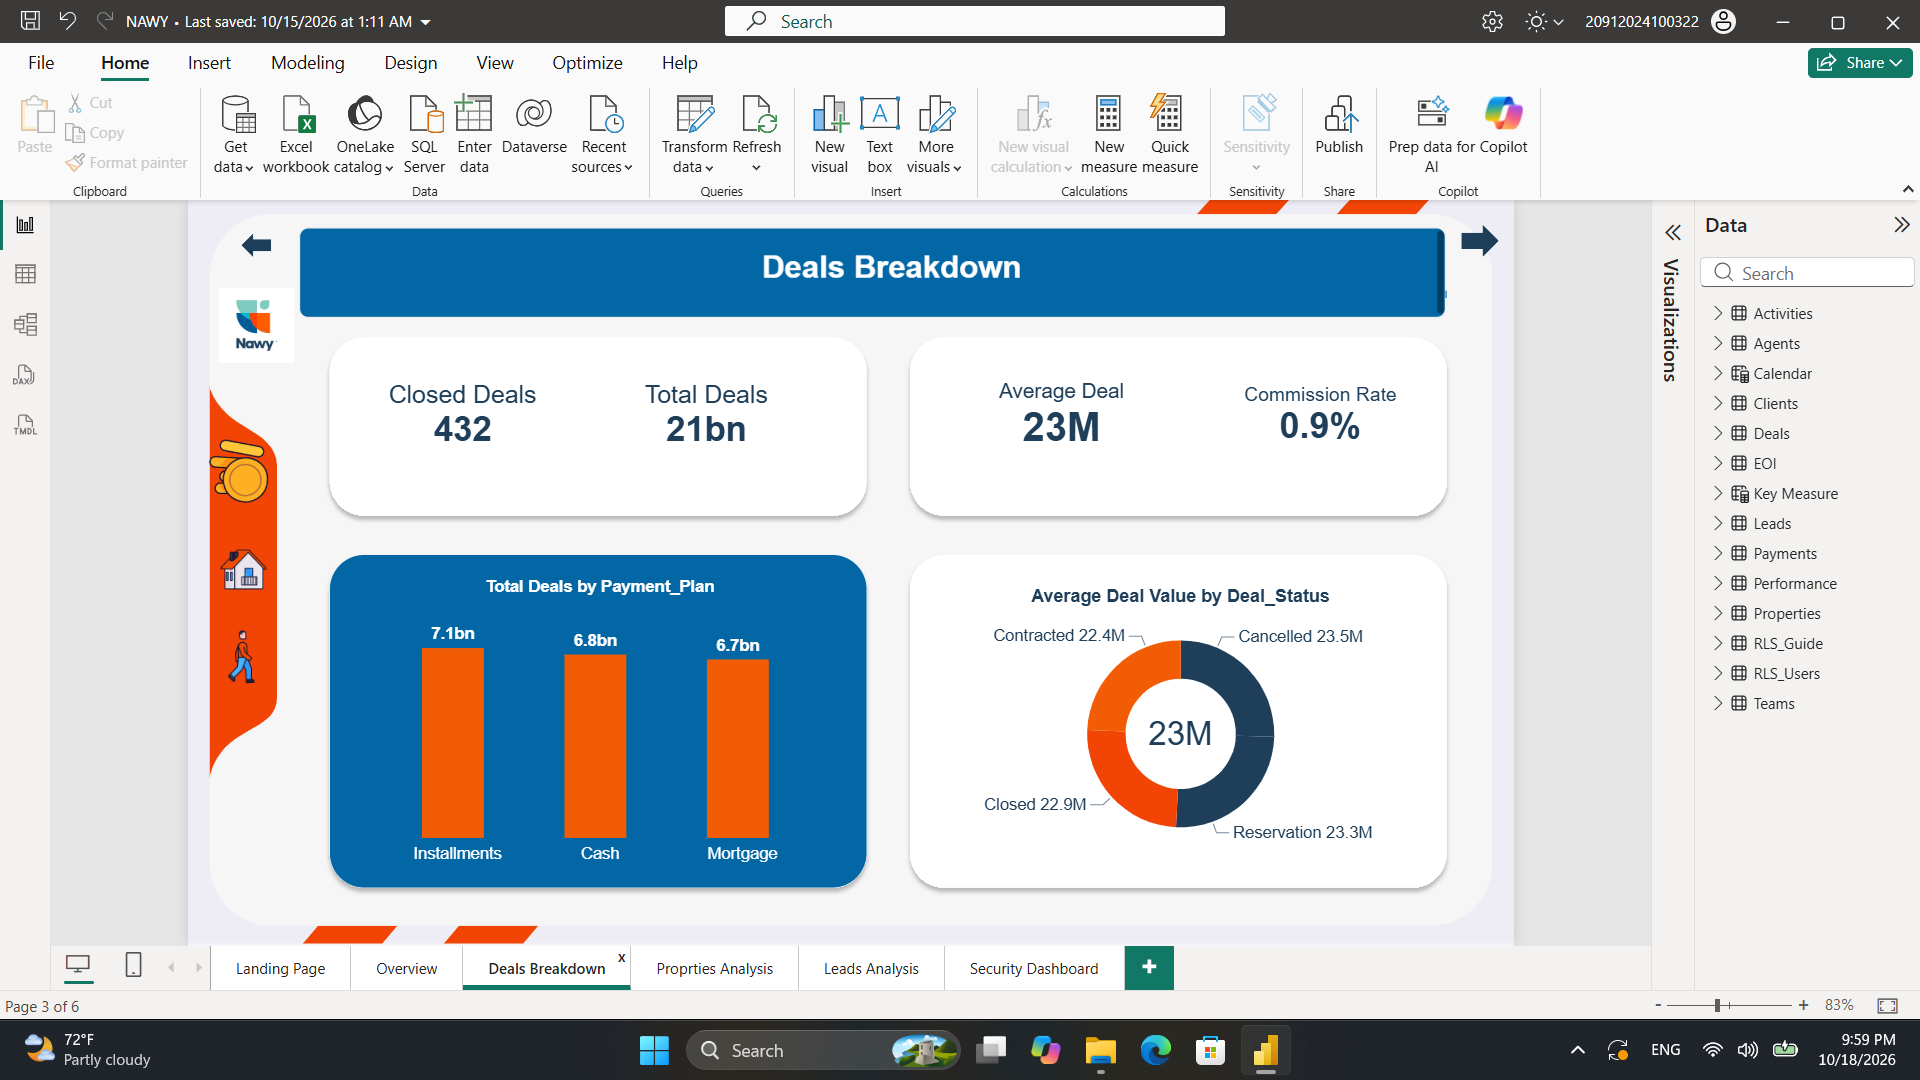

The page's visual inventory and layout, read from the dashboard file:
{"tool":"powerbi","page":{"name":"Deals Breakdown","canvas":[1280,720],"ordinal":2},"visuals":[{"type":"htmlContent443BE3AD55E043BF878BED274D3A6855","fields":{"content":["Activities.Deals Breakdown"]},"box":[107.4,26.5,1106.3,86.9],"z":0},{"type":"cardVisual","fields":{"Data":["Key Measure.Closed Deals"]},"box":[172.5,141.2,185.8,135.1],"z":1000},{"type":"cardVisual","fields":{"Data":["Key Measure.Total Deals"]},"box":[407.8,141.2,185.8,135.1],"z":2000},{"type":"cardVisual","fields":{"Data":["Key Measure.Average Deal Value"]},"box":[745.6,141.2,195.4,135.1],"z":3000},{"type":"cardVisual","fields":{"Data":["Key Measure.Commission Rate"]},"box":[996.5,141.2,193,135.1],"z":4000},{"type":"clusteredColumnChart","fields":{"Category":["Deals.Payment_Plan"],"Y":["Key Measure.Total Deals"]},"box":[155.6,348.7,483.8,308.8],"z":5000},{"type":"donutChart","fields":{"Category":["Deals.Deal_Status"],"Y":["Key Measure.Average Deal Value"]},"box":[715.4,357.1,485,290.8],"z":6000},{"type":"image","box":[13.3,70,106.2,102.5],"z":7000},{"type":"shape","box":[36.2,16.9,59.1,53.1],"z":8000},{"type":"shape","box":[1213.7,8.4,66.4,61.5],"z":9000},{"type":"image","box":[0,208.7,107.4,117],"z":9001},{"type":"image","box":[10.9,316.1,84.5,80.8],"z":9002},{"type":"image","box":[0,396.9,107.4,88.1],"z":9003}]}

Visuals, with their boxes on the page's 1280x720 design canvas (x1, y1, x2, y2). These are canvas units, not pixel positions in the 1920x1080 screenshot, which may show the page scaled, cropped or inside an application window:
htmlContent443BE3AD55E043BF878BED274D3A6855 - Activities.Deals Breakdown: [107, 26, 1214, 113]
cardVisual - Key Measure.Closed Deals: [172, 141, 358, 276]
cardVisual - Key Measure.Total Deals: [408, 141, 594, 276]
cardVisual - Key Measure.Average Deal Value: [746, 141, 941, 276]
cardVisual - Key Measure.Commission Rate: [996, 141, 1190, 276]
clusteredColumnChart - Deals.Payment_Plan x Key Measure.Total Deals: [156, 349, 639, 658]
donutChart - Deals.Deal_Status x Key Measure.Average Deal Value: [715, 357, 1200, 648]
image: [13, 70, 120, 172]
shape: [36, 17, 95, 70]
shape: [1214, 8, 1280, 70]
image: [0, 209, 107, 326]
image: [11, 316, 95, 397]
image: [0, 397, 107, 485]
